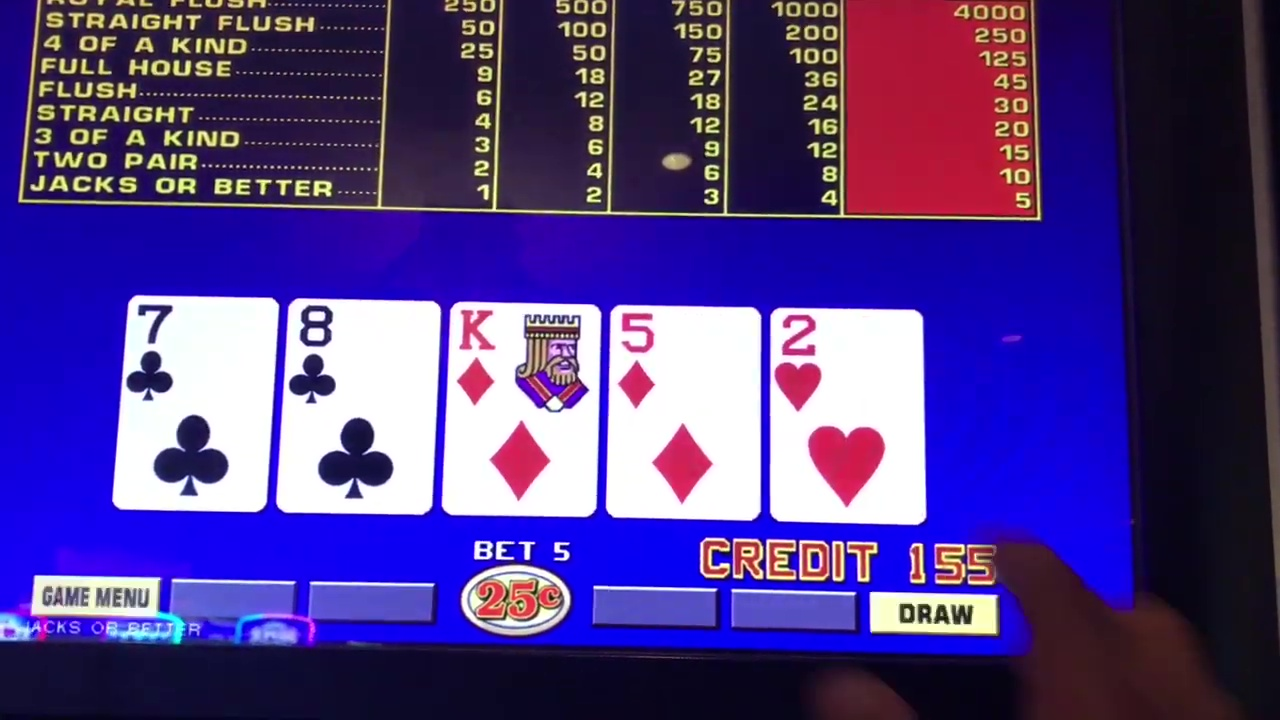C7: (130, 298, 256, 507)
C8: (293, 300, 429, 511)
D5: (614, 309, 753, 518)
DK: (454, 303, 591, 511)
H2: (778, 310, 913, 520)
